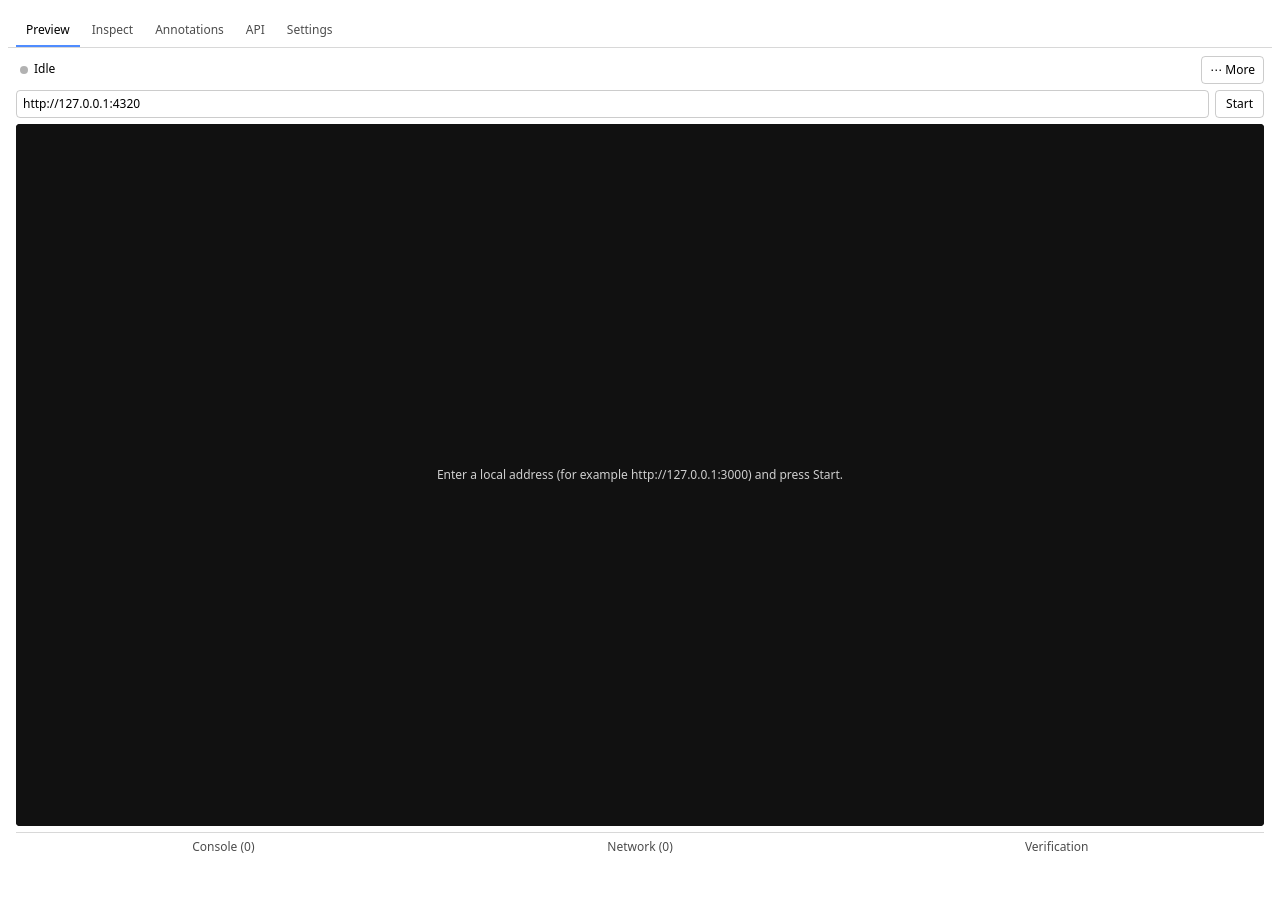
Scenario: StudioShell × annotation queue › shows the guiding empty state on the Annotations tab
This screenshot has width=1280, height=900.
Click the tab "Annotations": (190, 30) [145,14,234,47]
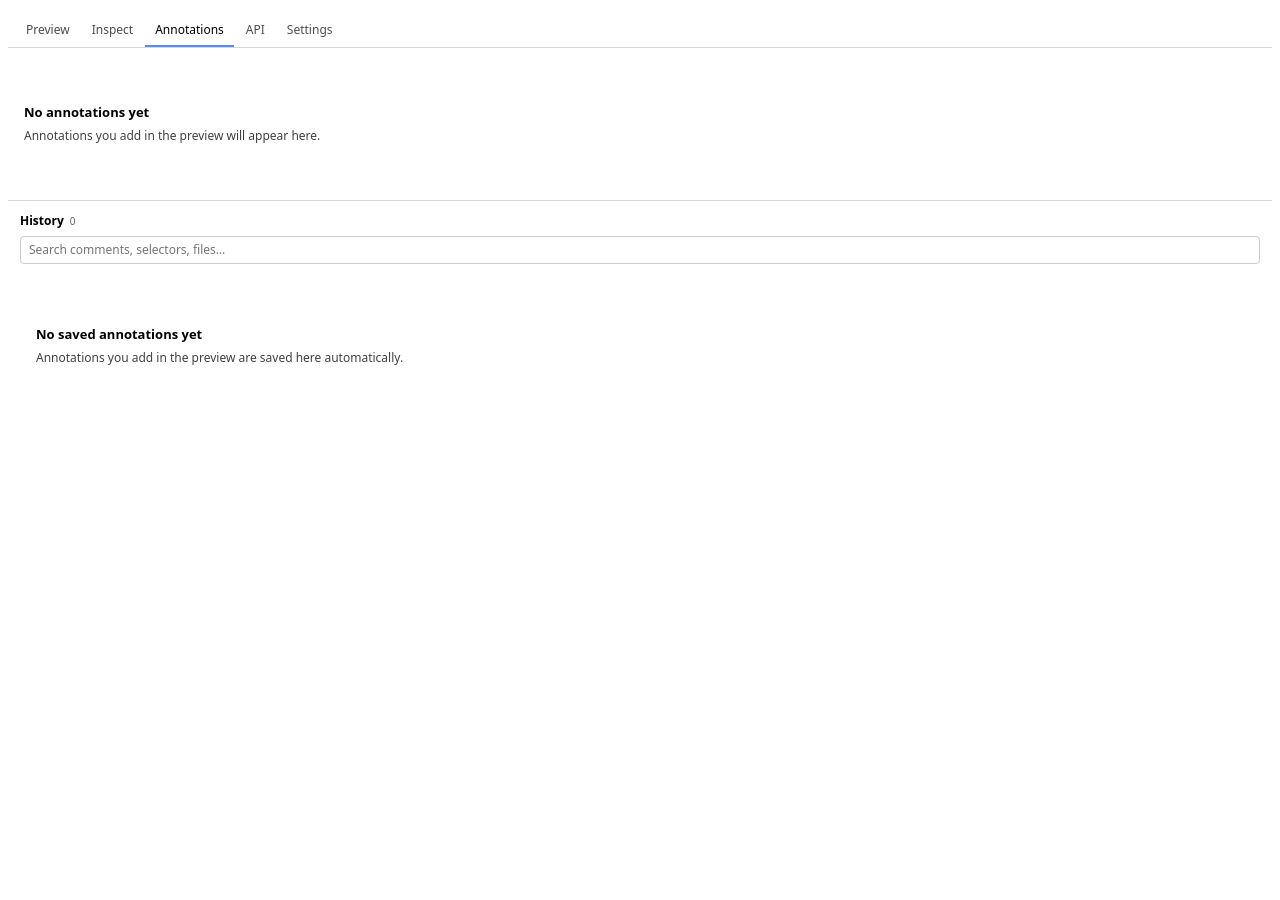
Expected: the heading "No annotations yet" is shown, [24,103,149,121]
